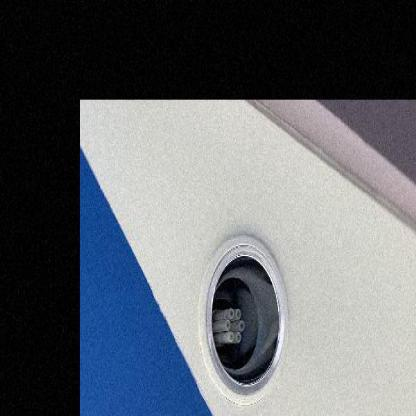light_off: (190, 193, 298, 415)
